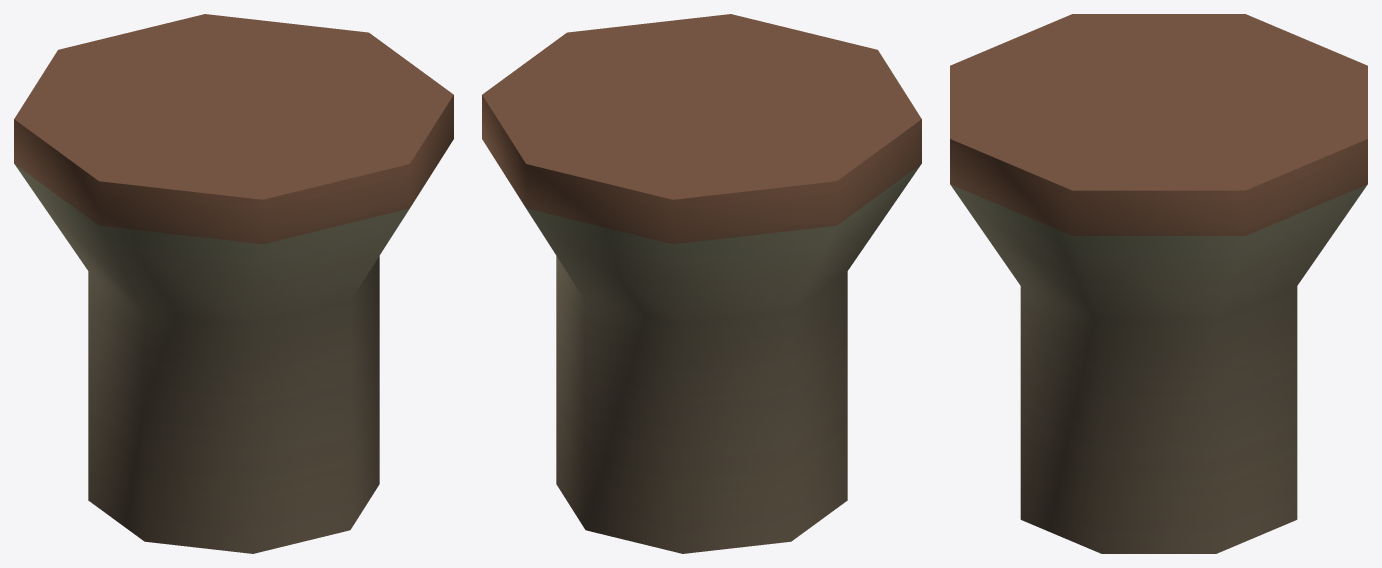
Rendered from RoundDiningTable_1.fbx.
The picture shows the model from 3 angles, left to right: view 1: azimuth 30°, elevation 25°; view 2: azimuth 150°, elevation 25°; view 3: azimuth 270°, elevation 25°; orthographic projection.
Parts seen in each view (by area): view 1: Cylinder; view 2: Cylinder; view 3: Cylinder.
Part boxes in pixels (bbox=[...]): Cylinder: bbox=[14, 14, 453, 553]; Cylinder: bbox=[482, 14, 921, 553]; Cylinder: bbox=[950, 14, 1367, 553].
Size of the model in its own units: 185 by 192 by 185.
